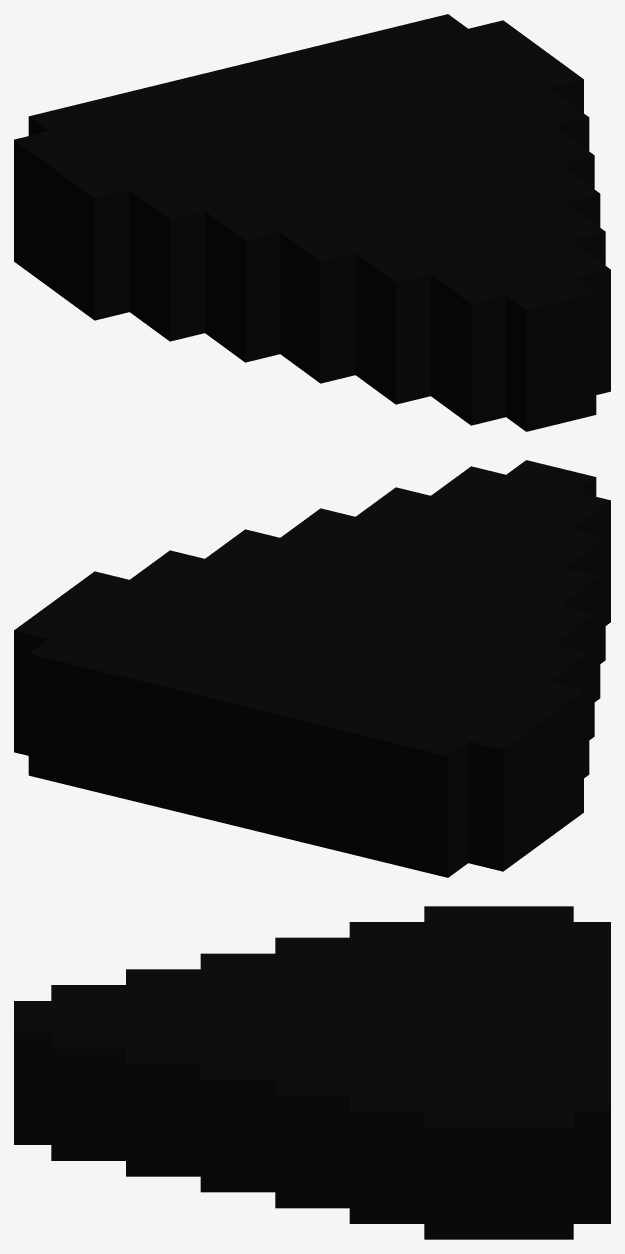
File: Scouter 1.fbx
The picture shows the model from 3 angles, top to bottom: view 1: azimuth 30°, elevation 25°; view 2: azimuth 150°, elevation 25°; view 3: azimuth 270°, elevation 25°; orthographic projection. The views are drawn at different scales.
Parts seen in each view (by area): view 1: Untitled; view 2: Untitled; view 3: Untitled.
Boxes of the visible parts, box(x1,y1,x2,y2) form: Untitled: box(14, 14, 610, 431); Untitled: box(14, 460, 610, 877); Untitled: box(14, 906, 610, 1239).
Bounding box in the file's own units: 4.2 × 1 × 4.8.
